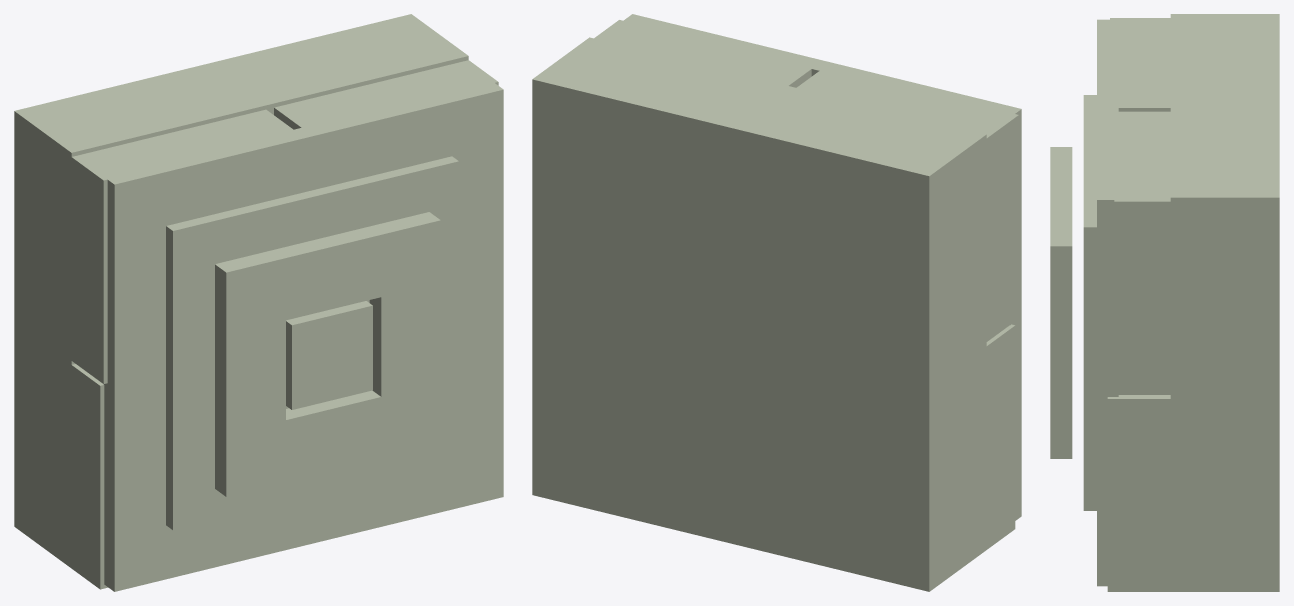
File: Stone tile03.fbx
3 renders of one model, left to right at view 1: azimuth 30°, elevation 25°; view 2: azimuth 150°, elevation 25°; view 3: azimuth 270°, elevation 25°, orthographic. The views are drawn at different scales.
Parts seen in each view (by area): view 1: StoneTile_SwitchBlue:Mesh, group2; view 2: StoneTile_SwitchBlue:Mesh; view 3: StoneTile_SwitchBlue:Mesh, group2.
Boxes of the visible parts, <box> form: StoneTile_SwitchBlue:Mesh: <box>14,14,503,591</box>; group2: <box>215,212,440,496</box>; StoneTile_SwitchBlue:Mesh: <box>532,14,1021,591</box>; StoneTile_SwitchBlue:Mesh: <box>1083,14,1279,591</box>; group2: <box>1050,147,1072,458</box>.
Bounding box in the file's own units: 2 × 2 × 1.05.
